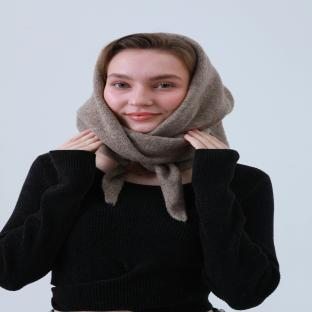Human: (0, 33, 280, 312)
